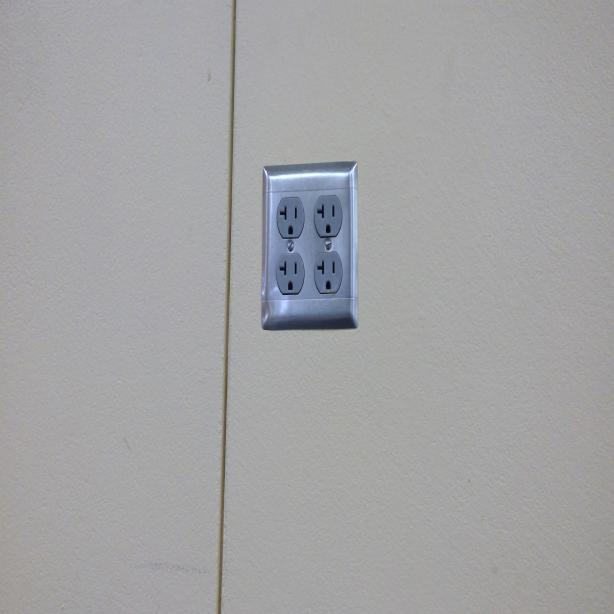typeb: (312, 197, 345, 240), (275, 252, 304, 297), (313, 253, 342, 296), (278, 200, 306, 238)
